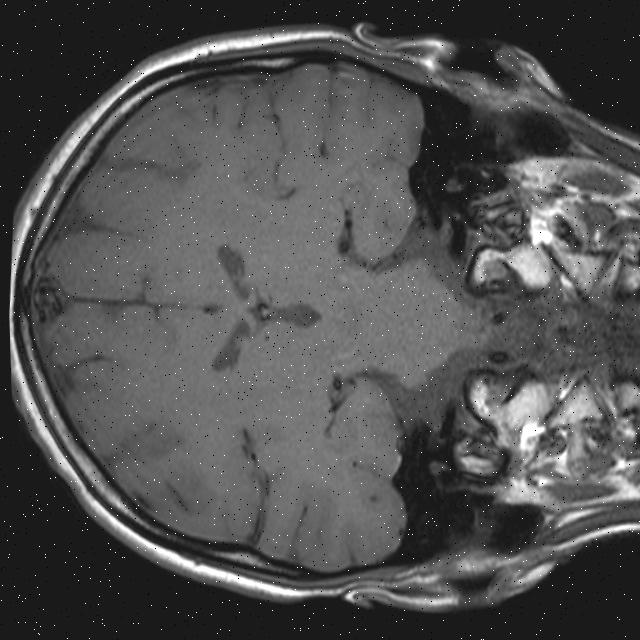NoTumor: (0, 0, 492, 617)
